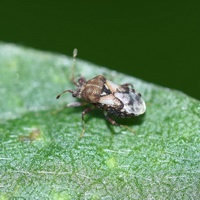insect: (56, 48, 145, 132)
